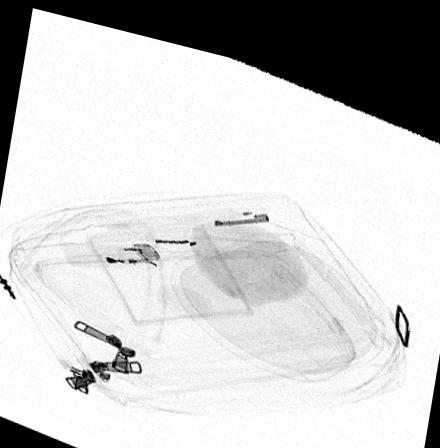Lighter: (60, 235, 166, 263)
